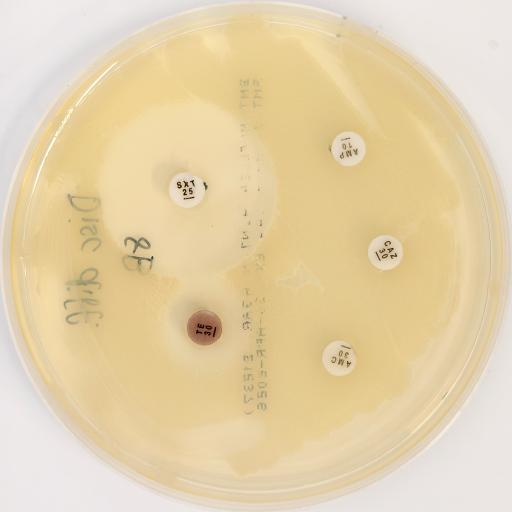disc: (169, 172, 205, 208), (322, 341, 358, 377), (331, 131, 366, 167), (187, 310, 222, 346), (368, 236, 403, 270)
